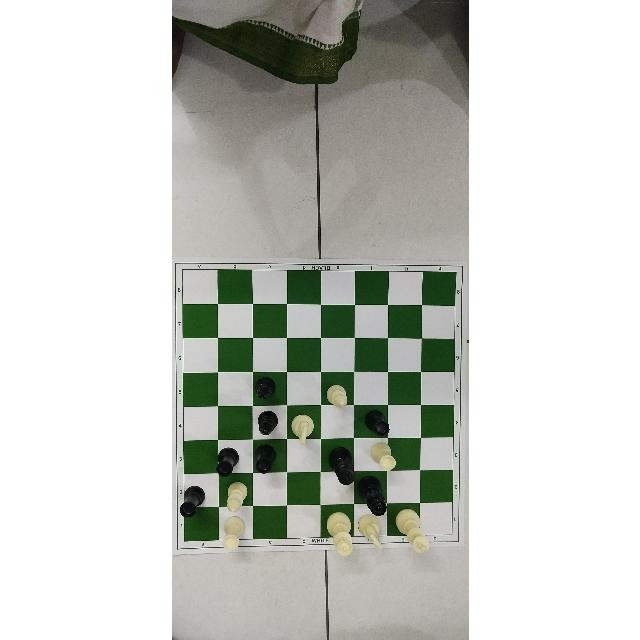black-bishop: (256, 410, 278, 436), (253, 376, 275, 400)
black-king: (327, 446, 355, 485)
black-queen: (357, 475, 387, 517)
black-rook: (179, 484, 205, 517), (215, 448, 239, 478), (252, 444, 276, 474), (364, 410, 390, 436)
white-bishop: (225, 481, 247, 512), (325, 384, 348, 408)
white-king: (395, 507, 431, 555)
white-knight: (358, 513, 382, 550), (288, 414, 313, 446)
white-queen: (325, 511, 353, 556)
white-rook: (369, 441, 396, 472), (221, 515, 244, 550)
